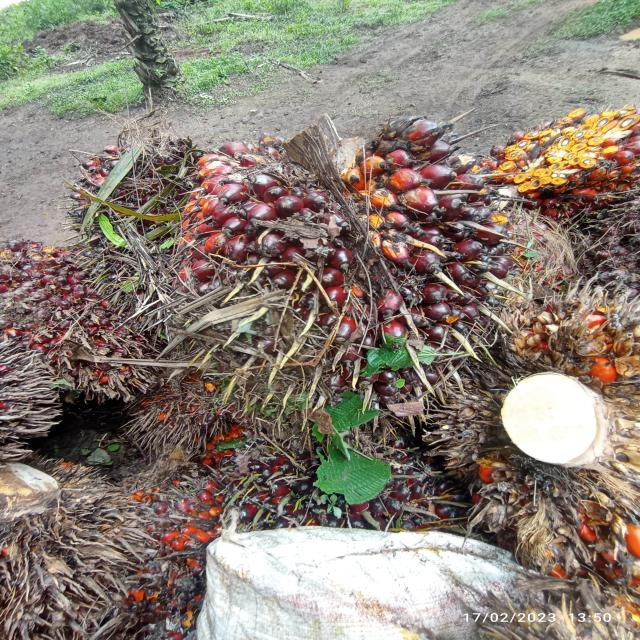fraksi 1: (152, 90, 518, 418), (198, 401, 487, 549), (0, 220, 153, 400)
fraksi 3: (115, 464, 252, 572)
